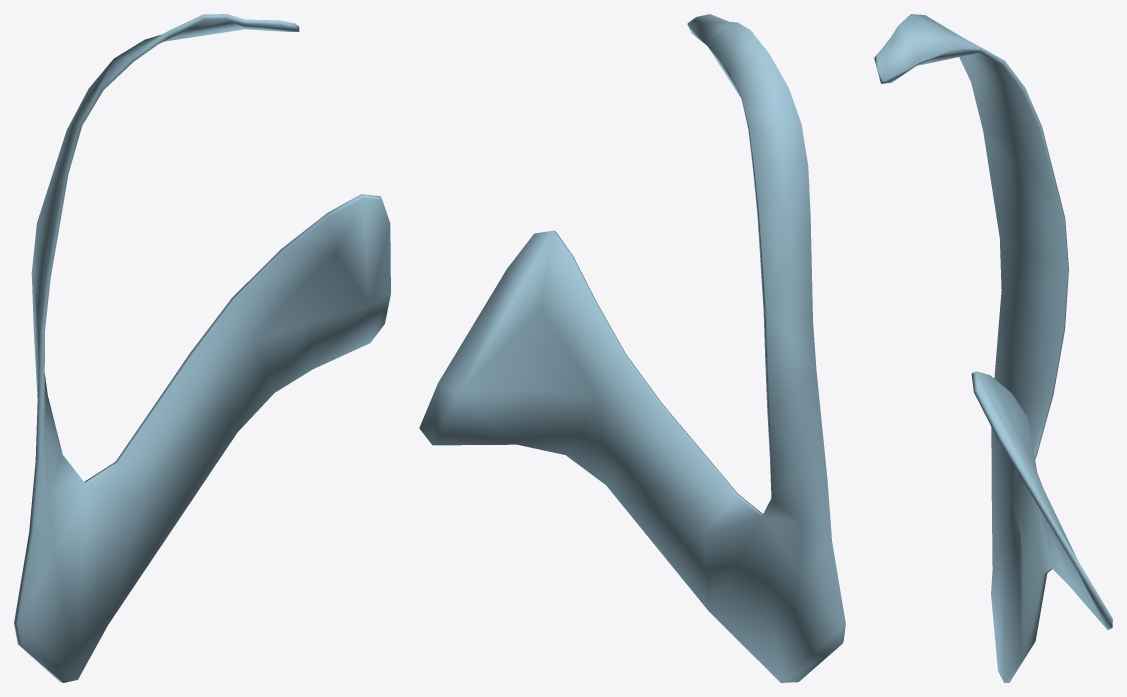
Rendered from articulacoes-arcuate-popliteal-ligament-r.glb.
The picture shows the model from 3 angles, left to right: view 1: azimuth 30°, elevation 25°; view 2: azimuth 150°, elevation 25°; view 3: azimuth 270°, elevation 25°; orthographic projection. The views are drawn at different scales.
Parts seen in each view (by area): view 1: Arcuate popliteal ligament.r; view 2: Arcuate popliteal ligament.r; view 3: Arcuate popliteal ligament.r.
Part boxes in pixels (x1=…): Arcuate popliteal ligament.r: x1=14, y1=14, x2=390, y2=682; Arcuate popliteal ligament.r: x1=419, y1=14, x2=845, y2=682; Arcuate popliteal ligament.r: x1=874, y1=14, x2=1112, y2=682.
Bounding box in the file's own units: 0.0465 × 0.0712 × 0.0217.
